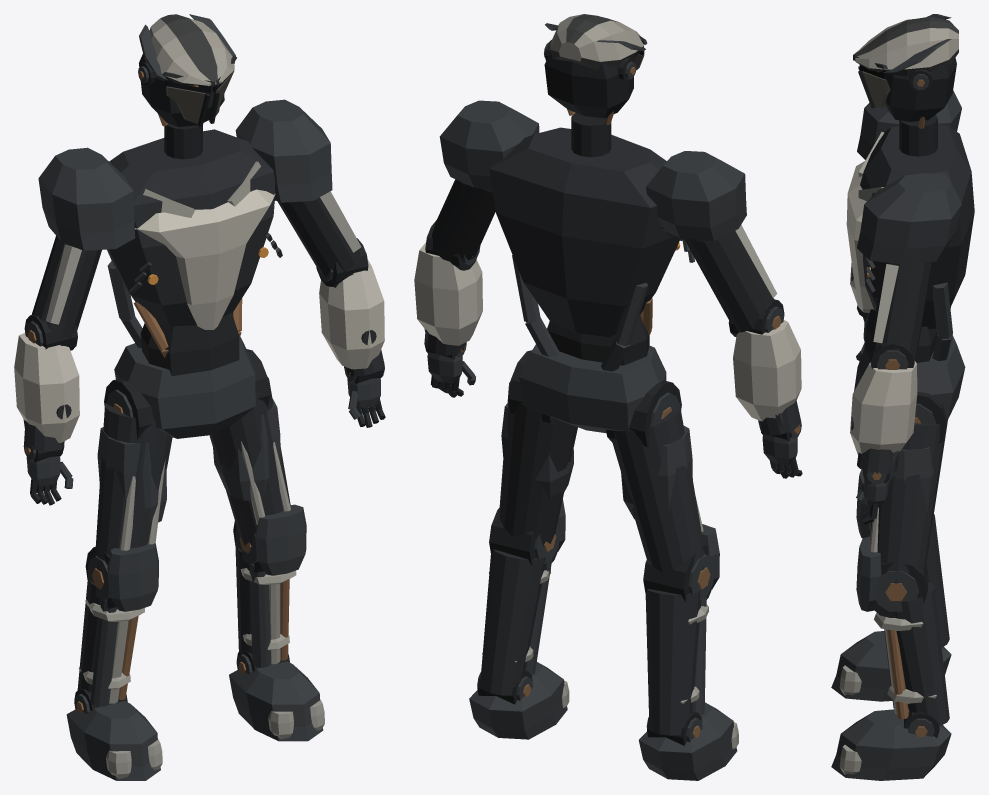
The model's file is A-14_don_15.glb.
3 renders of one model, left to right at view 1: azimuth 30°, elevation 25°; view 2: azimuth 150°, elevation 25°; view 3: azimuth 270°, elevation 25°, orthographic. The views are drawn at different scales.
Parts seen in each view (by area): view 1: Chassis, Detachable head; view 2: Chassis, Detachable head; view 3: Chassis, Detachable head.
Boxes of the visible parts, x1=… form: Chassis: x1=14, y1=99, x2=385, y2=780; Detachable head: x1=138, y1=14, x2=236, y2=126; Chassis: x1=414, y1=100, x2=802, y2=780; Detachable head: x1=544, y1=14, x2=647, y2=124; Chassis: x1=831, y1=90, x2=974, y2=780; Detachable head: x1=853, y1=14, x2=958, y2=128.
Bounding box in the file's own units: 0.9164 × 1.74 × 0.3195.
